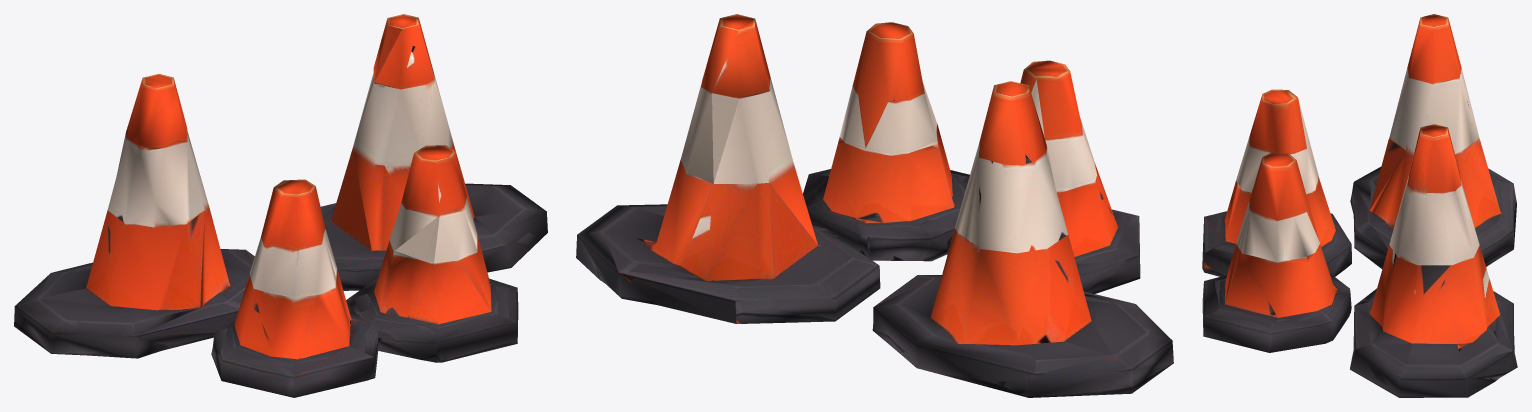
File: cone-cluster.glb
3 renders of one model, left to right at view 1: azimuth 30°, elevation 25°; view 2: azimuth 150°, elevation 25°; view 3: azimuth 270°, elevation 25°, orthographic. The views are drawn at different scales.
Parts seen in each view (by area): view 1: cone_cluster; view 2: cone_cluster; view 3: cone_cluster.
Boxes of the visible parts, x1,y1,x2,y2 form: cone_cluster: (14,14,547,397); cone_cluster: (576,14,1173,397); cone_cluster: (1202,14,1517,397).
Size of the model in its own units: 1.3 by 0.5706 by 0.7757.
Materials: 1 (1 with a texture image).
